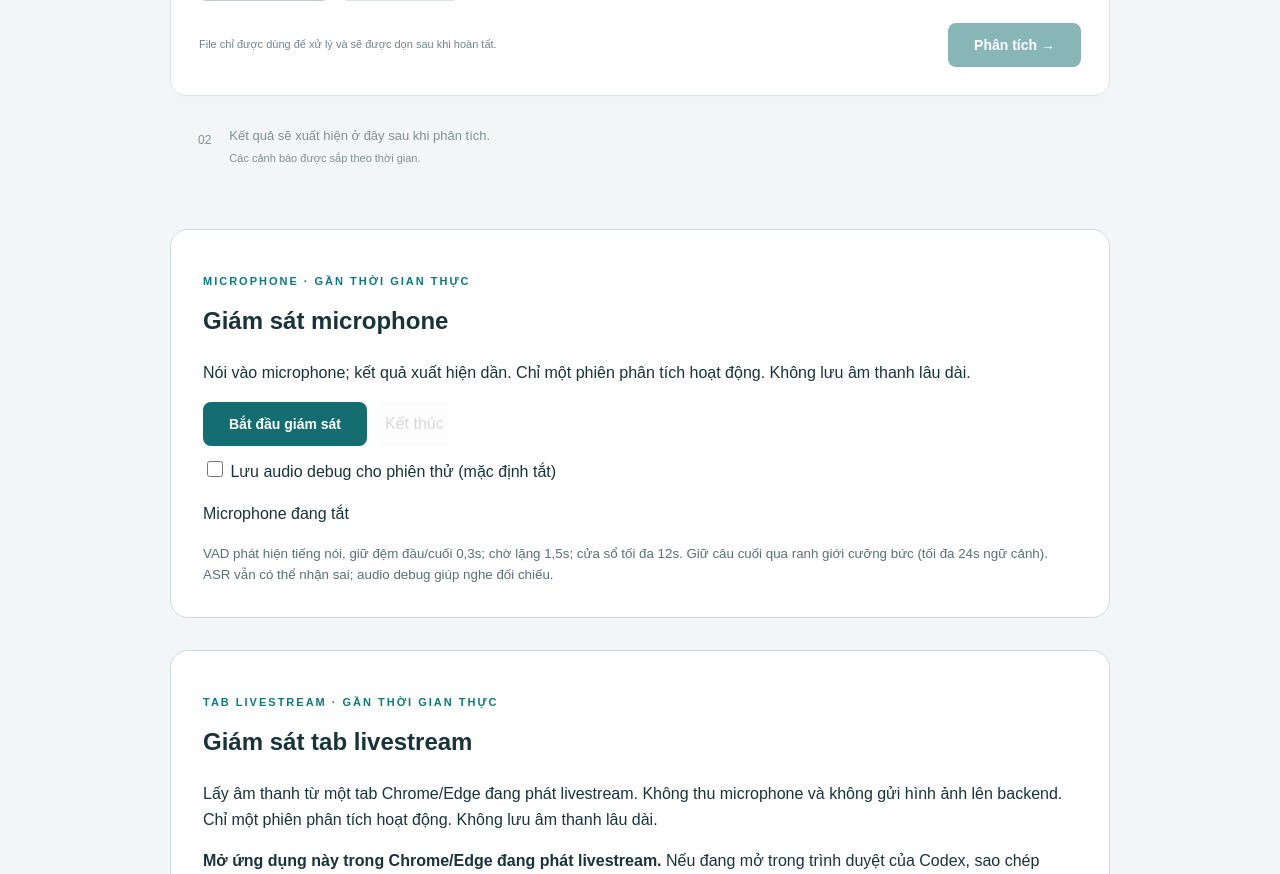
it: ignores wrong-session and late terminal results; completed is not waiting
(page scrolled)
Click the button "Bắt đầu giám sát" at (285, 424), box top-left (203, 402), bottom-right (367, 446)
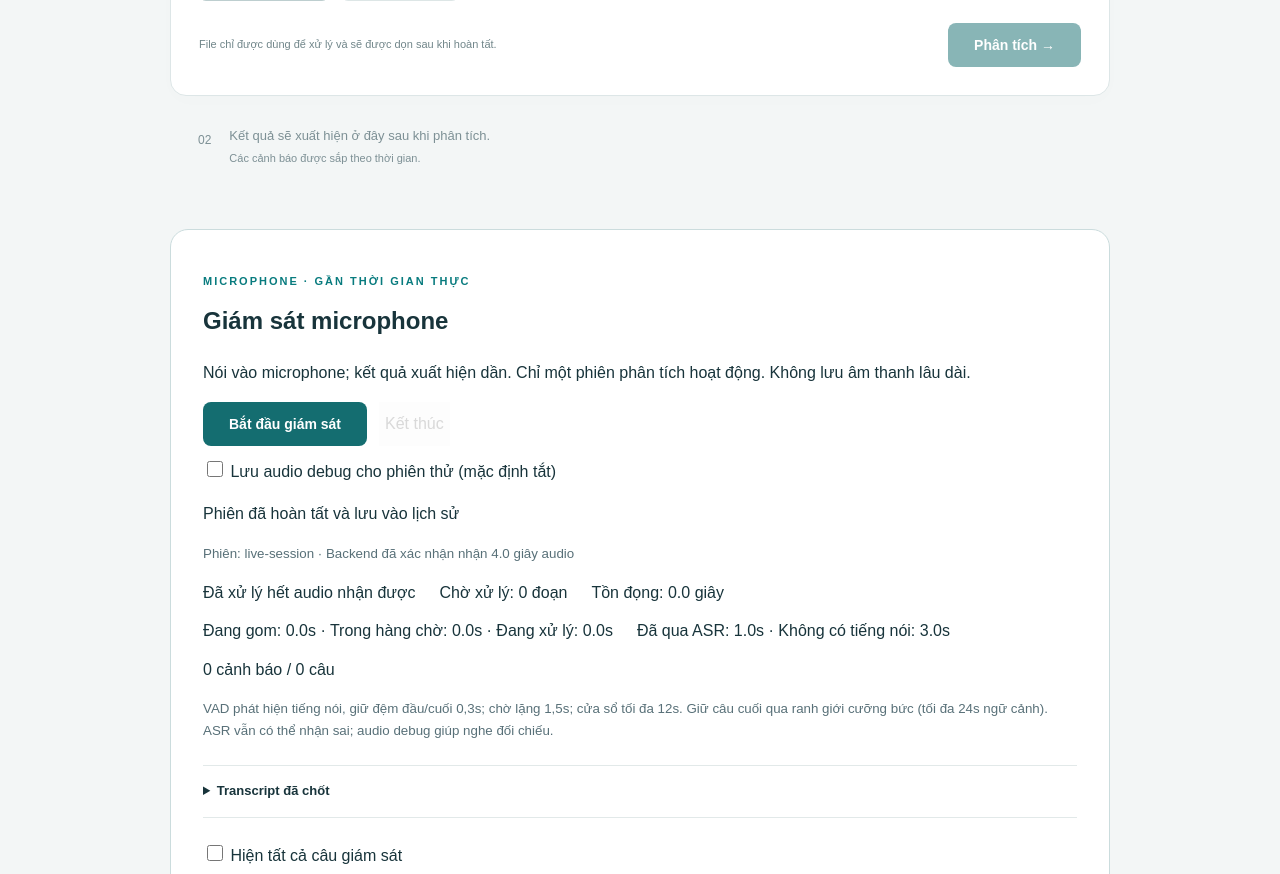
Result: the text "Đã xử lý hết audio nhận được" is shown at top-left (203, 580), bottom-right (416, 605)
Result: the text "Tồn đọng: 0.0" is shown at top-left (591, 580), bottom-right (724, 605)
Click the button "Bắt đầu giám sát" at (285, 424), box top-left (203, 402), bottom-right (367, 446)
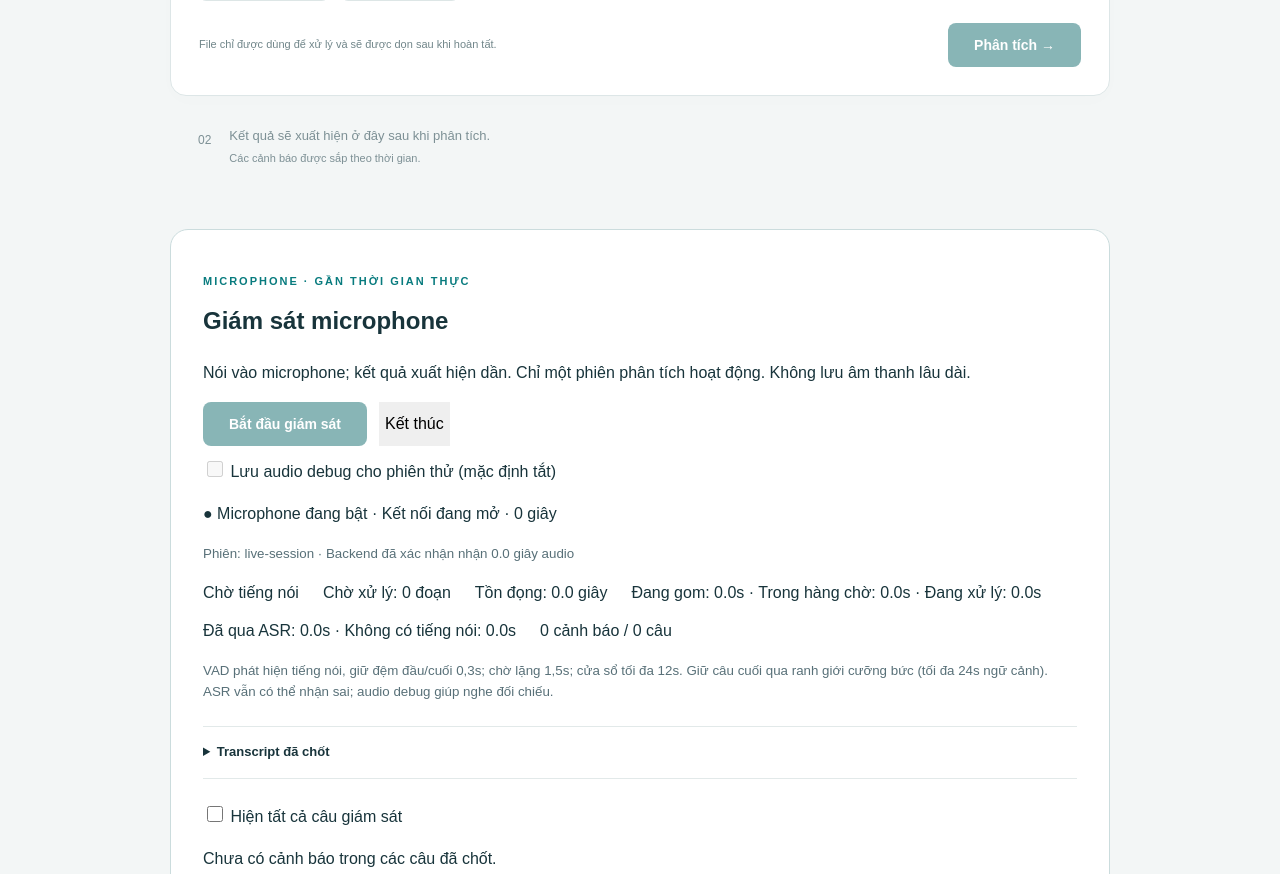
Result: the text "Microphone đang bật" is shown at top-left (203, 505), bottom-right (557, 522)
